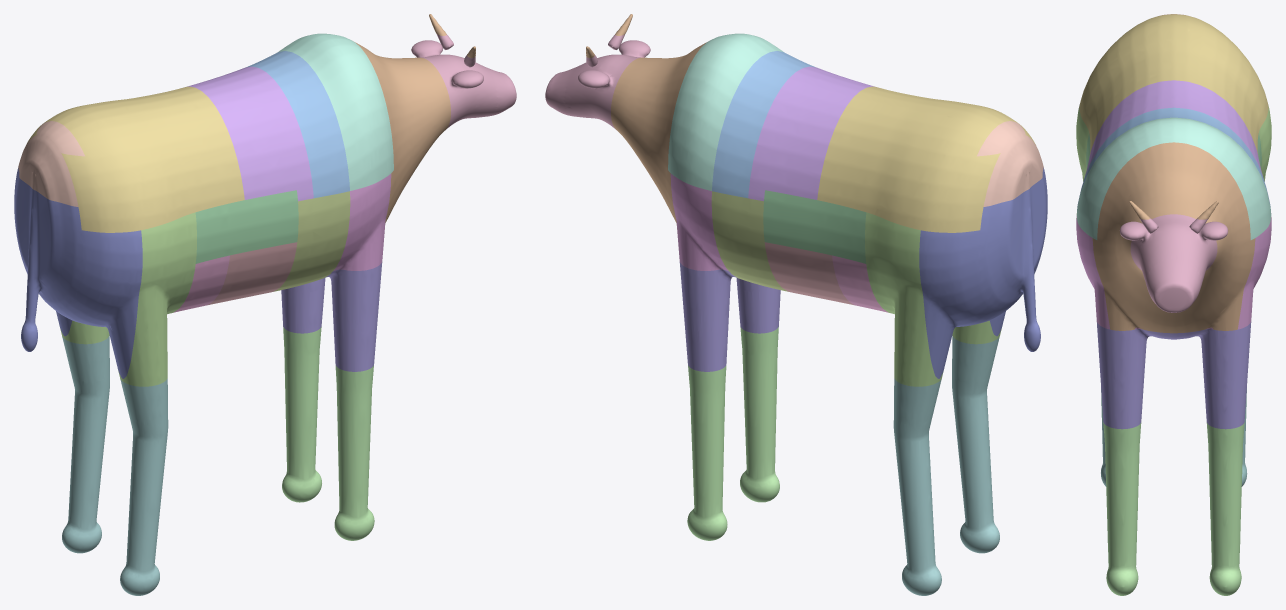
3 views of the same model, side by side, from view 1: azimuth 30°, elevation 25°; view 2: azimuth 150°, elevation 25°; view 3: azimuth 270°, elevation 25° (orthographic).
Visible parts, largest first — view 1: rump, leg, silverside, shin, sirloin, chuck-and-blade, topside, neck-and-clod, brisket, fore-rib, fillet, ox-cheek (+5 smaller); view 2: rump, leg, silverside, shin, sirloin, chuck-and-blade, topside, neck-and-clod, brisket, fore-rib, fillet, ox-cheek (+5 smaller); view 3: neck-and-clod, rump, shin, brisket, chuck-and-blade, ox-cheek, sirloin, thick-rib, fore-rib, topside, leg.
Boxes of the visible parts, x1,y1,x2,y2 form: rump: [26, 86, 244, 232]; leg: [62, 335, 168, 595]; silverside: [14, 168, 142, 378]; shin: [282, 326, 374, 540]; sirloin: [187, 66, 313, 201]; chuck-and-blade: [278, 33, 393, 190]; topside: [60, 212, 196, 386]; neck-and-clod: [355, 14, 475, 229]; brisket: [281, 262, 382, 371]; fore-rib: [246, 51, 349, 198]; fillet: [195, 190, 298, 263]; ox-cheek: [411, 34, 516, 128]; rump: [817, 86, 1036, 232]; leg: [893, 335, 999, 595]; silverside: [919, 167, 1047, 378]; shin: [687, 326, 779, 540]; sirloin: [748, 66, 874, 201]; chuck-and-blade: [668, 33, 783, 190]; topside: [865, 212, 1001, 386]; neck-and-clod: [586, 14, 706, 229]; brisket: [679, 262, 780, 371]; fore-rib: [712, 51, 815, 198]; fillet: [763, 190, 866, 263]; ox-cheek: [545, 34, 650, 129]; neck-and-clod: [1092, 142, 1255, 333]; rump: [1079, 14, 1268, 155]; shin: [1103, 422, 1244, 595]; brisket: [1097, 322, 1251, 429]; chuck-and-blade: [1076, 117, 1271, 239]; ox-cheek: [1119, 214, 1228, 312]; sirloin: [1084, 80, 1263, 177]; thick-rib: [1076, 216, 1271, 329]; fore-rib: [1077, 107, 1271, 213]; topside: [1076, 105, 1271, 181]; leg: [1101, 388, 1247, 486].
Size of the model in its own units: 0.9842 by 0.9293 by 0.3484.
